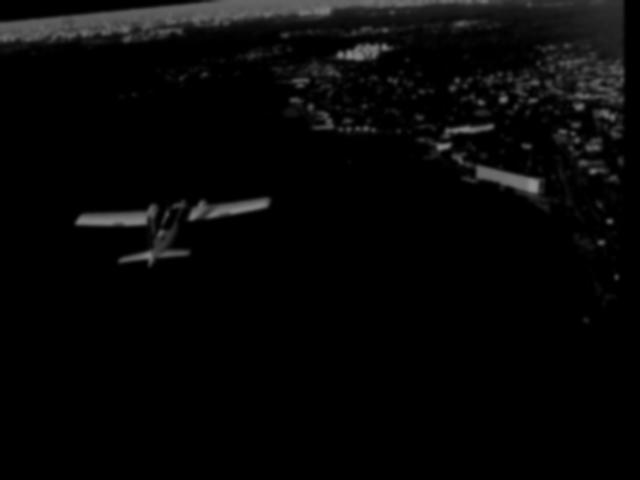hedef: (70, 187, 289, 286)
